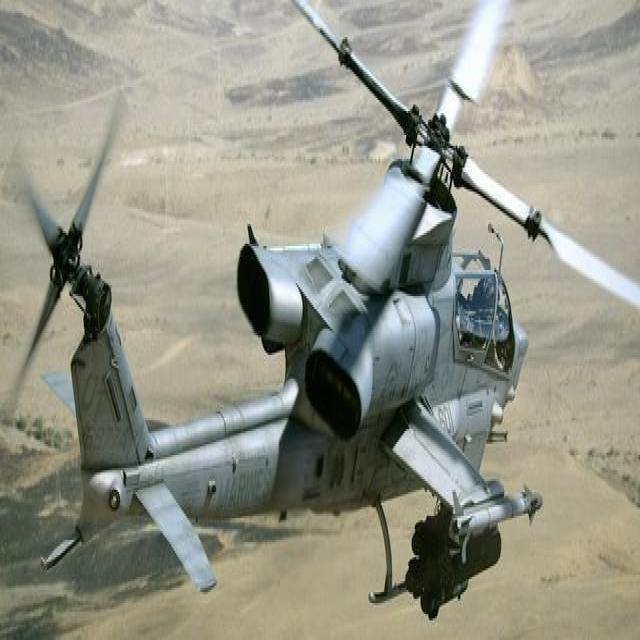MIL_HELO: (27, 0, 628, 640)
